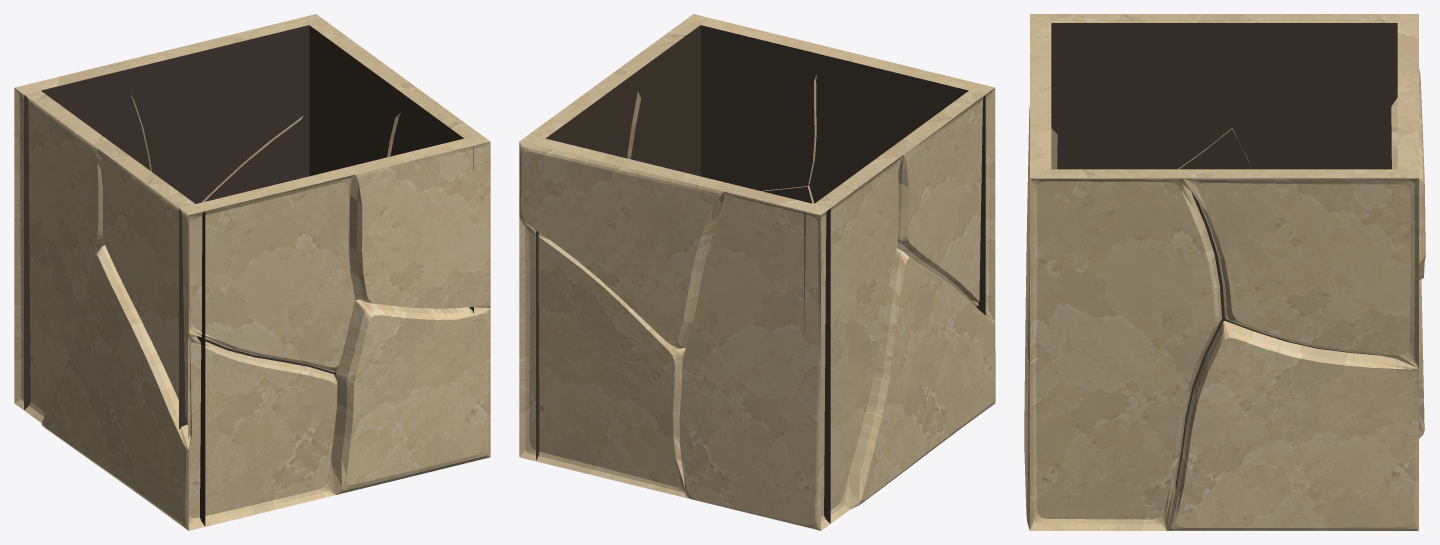
File: ground_square_island_10.glb
The picture shows the model from 3 angles, left to right: view 1: azimuth 30°, elevation 25°; view 2: azimuth 150°, elevation 25°; view 3: azimuth 270°, elevation 25°; orthographic projection. The views are drawn at different scales.
Parts seen in each view (by area): view 1: GroundSquareIsland10_Body; view 2: GroundSquareIsland10_Body; view 3: GroundSquareIsland10_Body.
Boxes of the visible parts, left/top/right/bottom form: GroundSquareIsland10_Body: left=14, top=14, right=490, bottom=530; GroundSquareIsland10_Body: left=519, top=14, right=995, bottom=530; GroundSquareIsland10_Body: left=1024, top=14, right=1425, bottom=530.
Bounding box in the file's own units: 1.03 × 1 × 1.03.
Materials: 15 (14 with a texture image).
